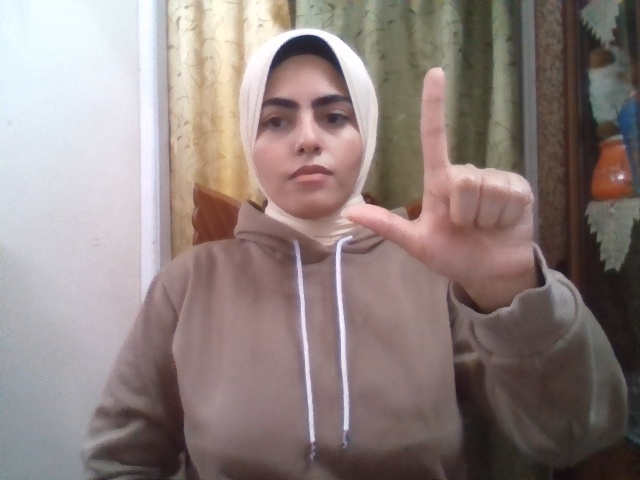L: (345, 67, 536, 289)
